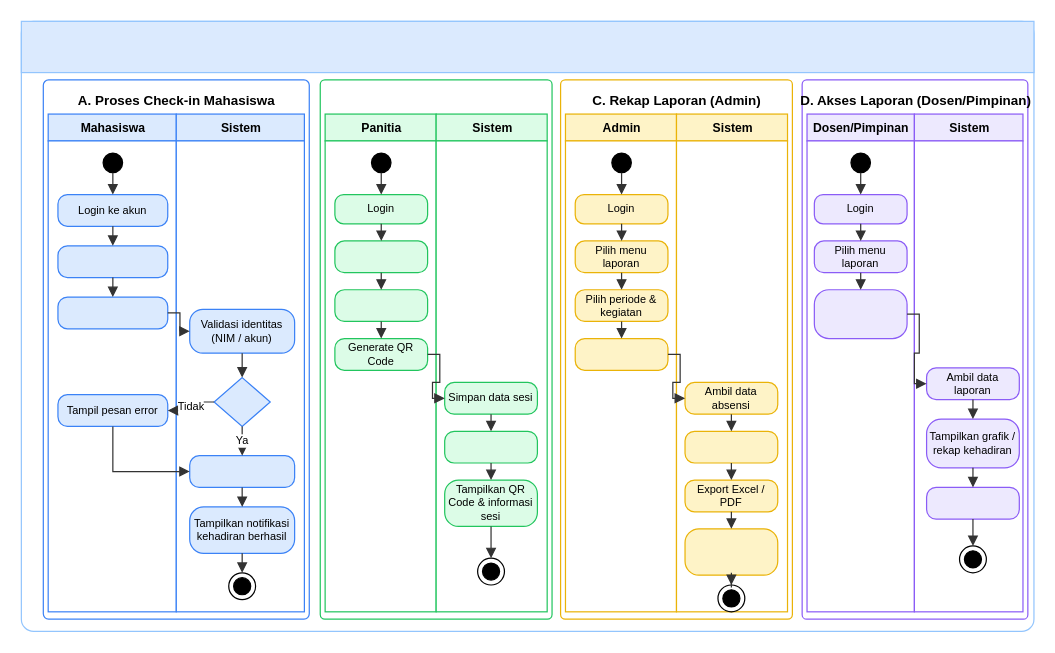
The diagram is 1055 pixels wide and 653 high, and some of its shapes have lost their labels. Here are the shapes that lost their labels. From the top down, the box of each, then its label:
(20, 20, 1034, 73): 3. Activity Diagram
(57, 245, 168, 278): Pilih kegiatan
(334, 240, 428, 273): Pilih menu kegiatan
(57, 296, 168, 329): Scan QR Code
(334, 289, 428, 321): Isi data sesi kegiatan
(813, 289, 907, 339): Pilih filter (kegiatan, periode, prodi)
(319, 79, 552, 619): B. Membuat Sesi Kegiatan (Panitia)
(574, 337, 668, 370): Generate laporan
(213, 376, 270, 426): Valid?
(443, 430, 537, 463): Generate QR unik
(684, 430, 778, 463): Proses data
(188, 454, 295, 487): Tampan data absensi
(925, 486, 1019, 519): Unduh / lihat laporan
(684, 528, 778, 575): Tampilkan file laporan & notifikasi
